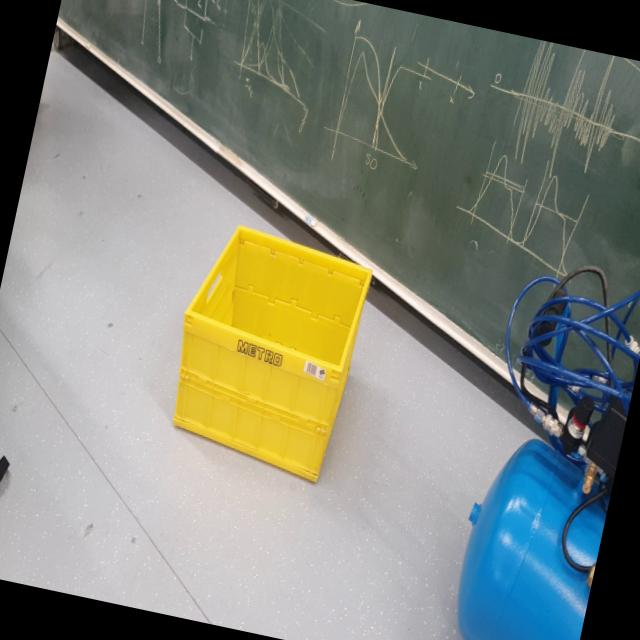box: (134, 184, 396, 514)
